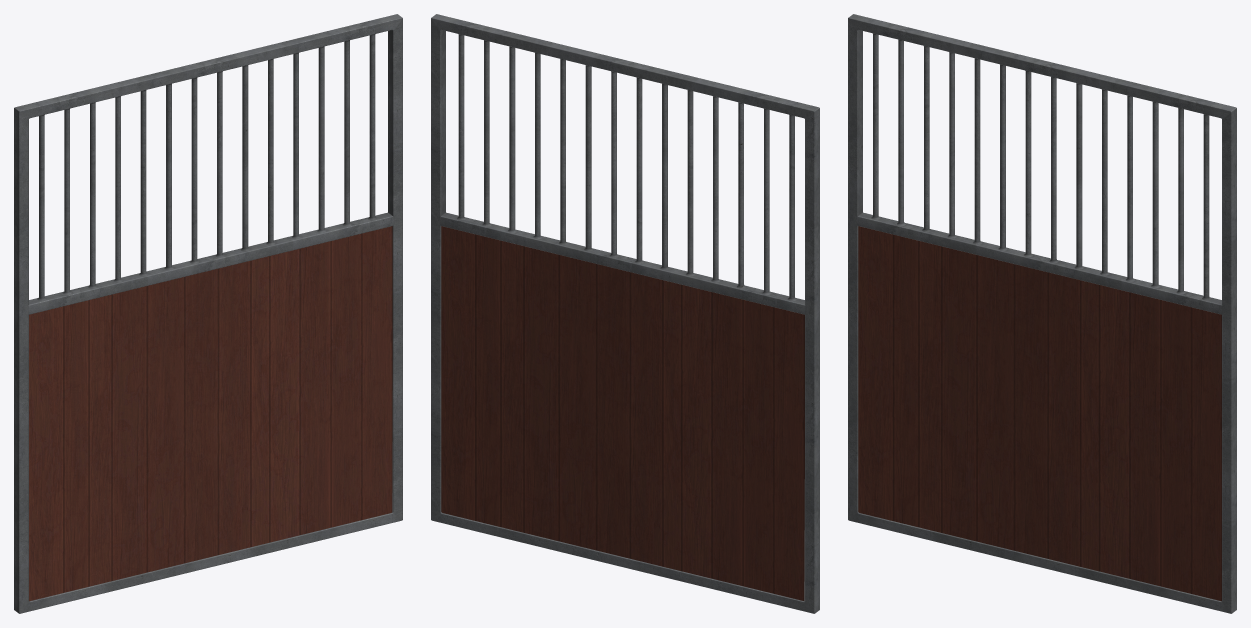
File: Pen_01_Straight.fbx
3 views of the same model, side by side, from view 1: azimuth 30°, elevation 25°; view 2: azimuth 150°, elevation 25°; view 3: azimuth 330°, elevation 25° (orthographic).
Parts seen in each view (by area): view 1: Pen_01_Straight; view 2: Pen_01_Straight; view 3: Pen_01_Straight.
Boxes of the visible parts, x1,y1,x2,y2 form: Pen_01_Straight: (14,14,402,613); Pen_01_Straight: (431,14,819,613); Pen_01_Straight: (848,14,1236,613).
Size of the model in its own units: 200 by 250 by 5.
